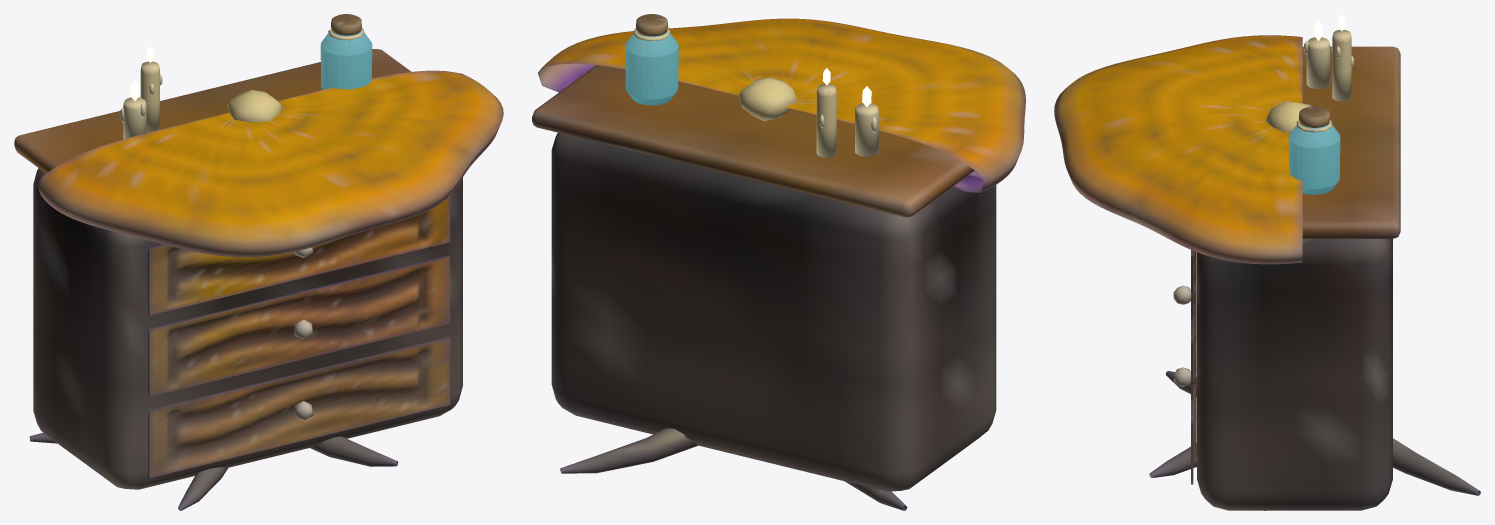
File: mantar_komodin.glb
3 renders of one model, left to right at view 1: azimuth 30°, elevation 25°; view 2: azimuth 150°, elevation 25°; view 3: azimuth 270°, elevation 25°, orthographic. The views are drawn at different scales.
Visible parts, largest first — view 1: mantar_komodin_LOD0; view 2: mantar_komodin_LOD0; view 3: mantar_komodin_LOD0.
Boxes of the visible parts, left/top/right/bottom form: mantar_komodin_LOD0: left=14, top=14, right=503, bottom=510; mantar_komodin_LOD0: left=532, top=14, right=1025, bottom=510; mantar_komodin_LOD0: left=1054, top=14, right=1480, bottom=510.
Size of what is drawn, in the model's own units: 1.3 by 1.11 by 1.09.
